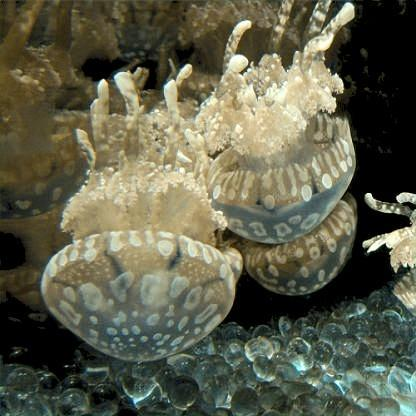LightHouse: (44, 73, 237, 365), (199, 10, 355, 238), (0, 0, 90, 215), (182, 0, 307, 142), (321, 42, 403, 192), (242, 194, 354, 302), (1, 259, 83, 332), (102, 0, 180, 58)
